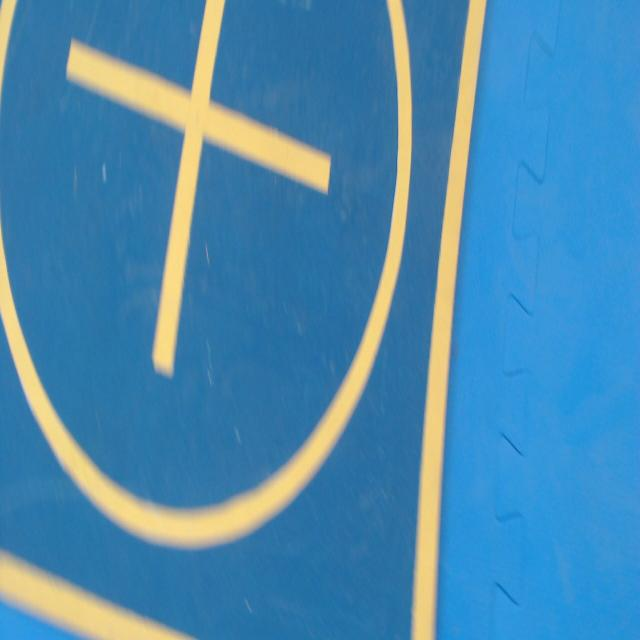base_pouso: (0, 0, 488, 639)
